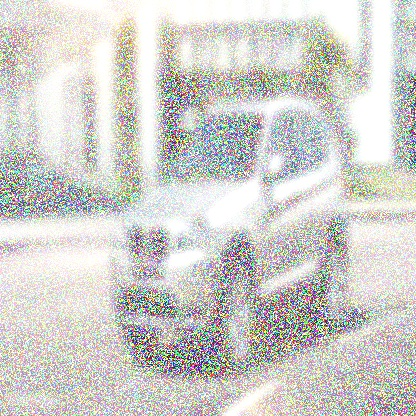Vehicle: (111, 98, 351, 374)
